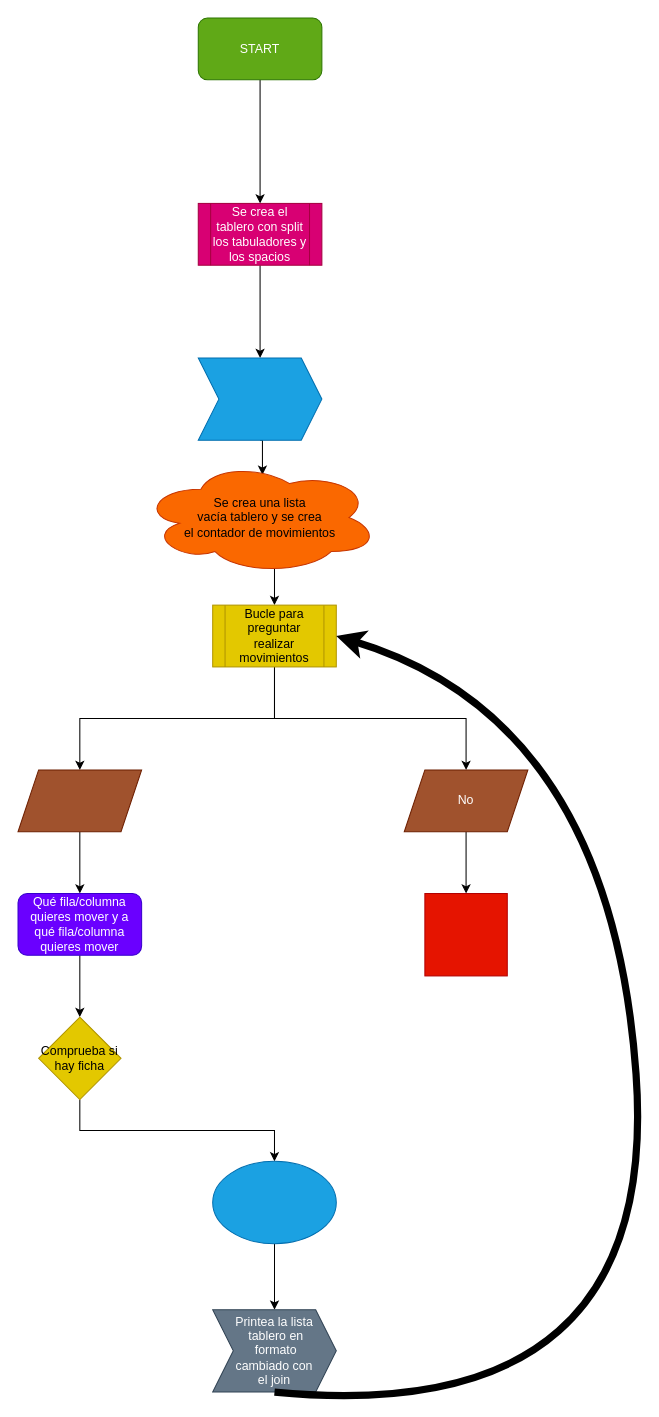
Image size: 659x1417. Some labels were removed from this diagram. The shapes that lost their labels are listed below. From the top down, each one's centre as x and y in pixels, then its label:
At [259,398]: "Se printea el tablero inicial".
At [79,800]: "Sí".
At [465,934]: "FIN".
At [274,1202]: "Mueve las fichas".
